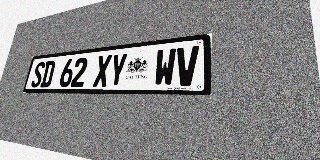2: (70, 57, 88, 87)
6: (58, 58, 76, 87)
D: (40, 60, 56, 87)
S: (30, 61, 46, 87)
V: (175, 45, 199, 86)
W: (153, 48, 176, 86)
X: (93, 55, 112, 87)
Y: (108, 53, 128, 87)
